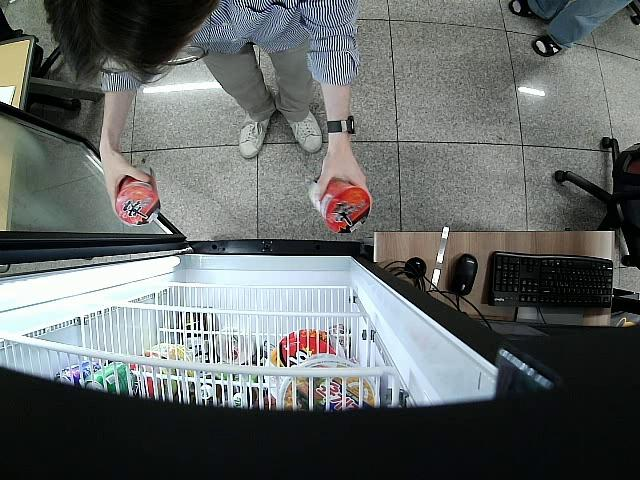00_hand: (99, 150, 151, 229), (311, 159, 375, 218)
02_shinRamen_S: (308, 179, 370, 235), (115, 172, 161, 227)
